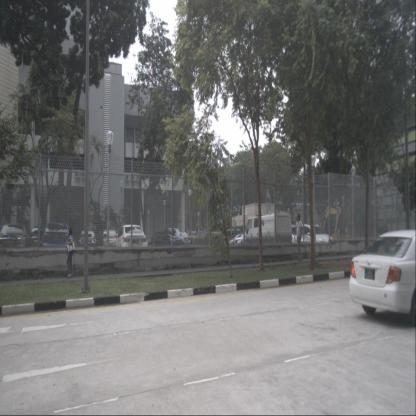human-pedestrian-adult: (66, 227, 74, 279), (294, 214, 302, 262)
vehicle-car: (348, 228, 416, 324), (0, 223, 36, 263), (41, 220, 70, 260), (116, 224, 148, 258), (294, 222, 334, 248), (277, 221, 312, 246), (96, 228, 120, 248), (28, 224, 47, 249), (162, 227, 184, 246), (79, 230, 98, 250), (234, 232, 254, 245), (173, 230, 191, 244), (151, 230, 165, 244)
vehicle-truck: (245, 211, 292, 252)
